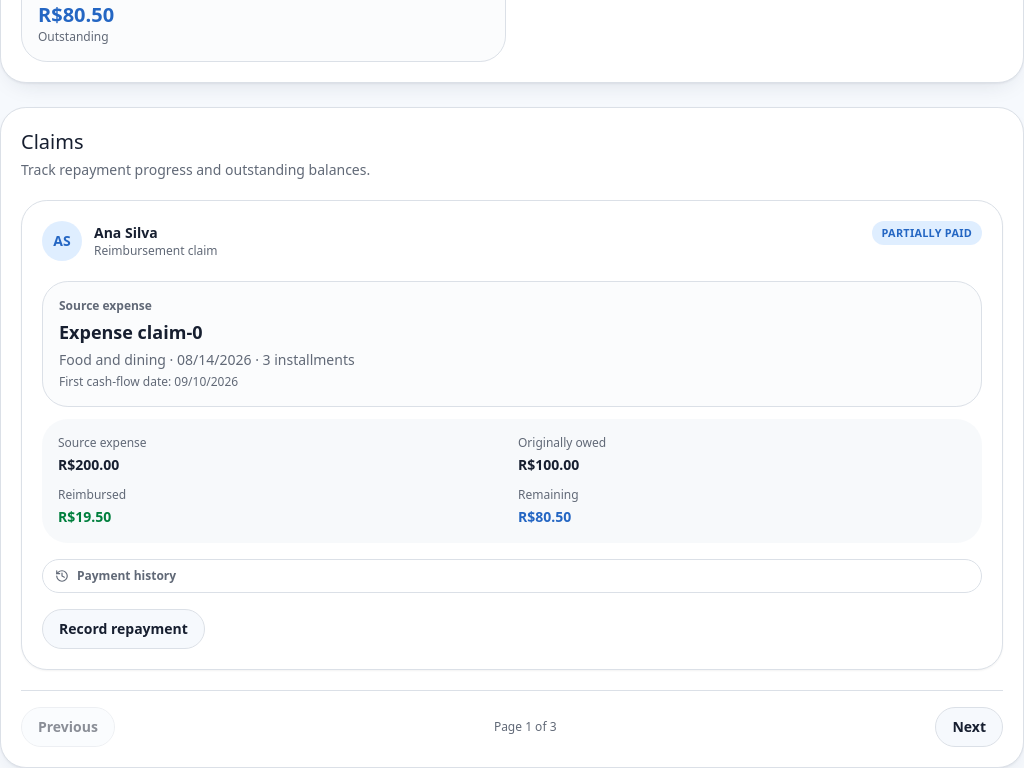
Scenario: OwedPage localization › settles an externally out-of-range page on the last valid page without looping
(page scrolled)
Click the button "Next" at point(969, 727), box x1=936 y1=707 x2=1003 y2=747
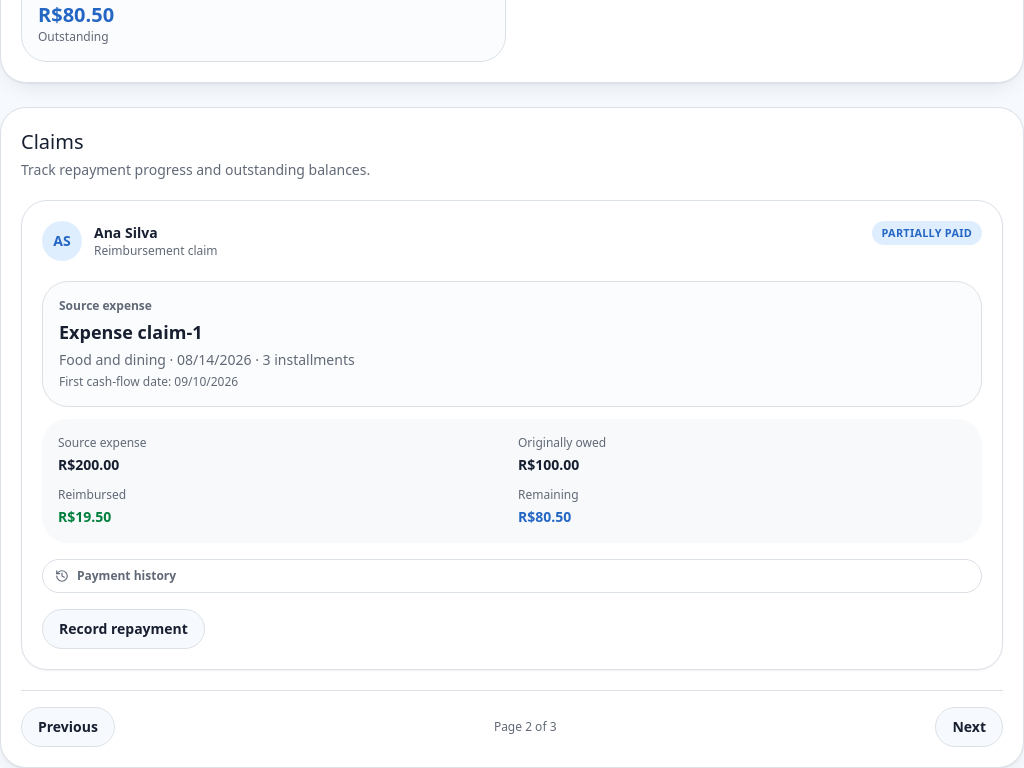
Expected: the text "Page 2 of 3" is shown, x1=494 y1=719 x2=556 y2=735
Click the button "Next" at point(969, 727), box x1=936 y1=707 x2=1003 y2=747
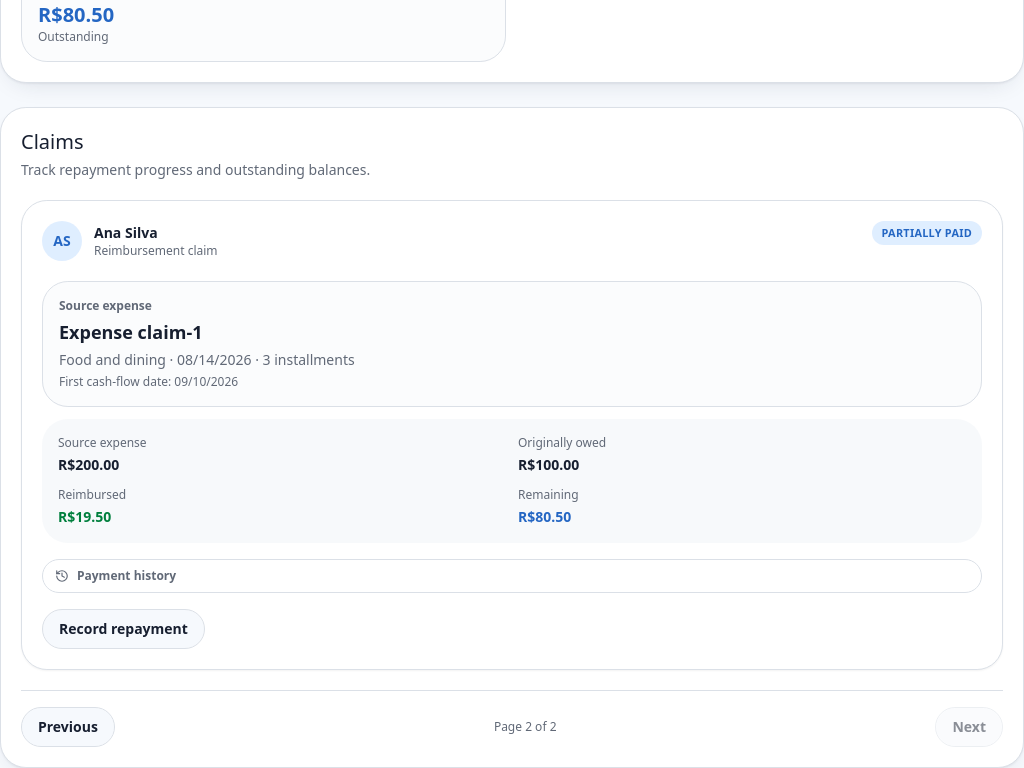
Expected: the text "Page 2 of 2" is shown, x1=494 y1=719 x2=556 y2=735
Expected: the button "Next" is disabled, x1=936 y1=707 x2=1003 y2=747
